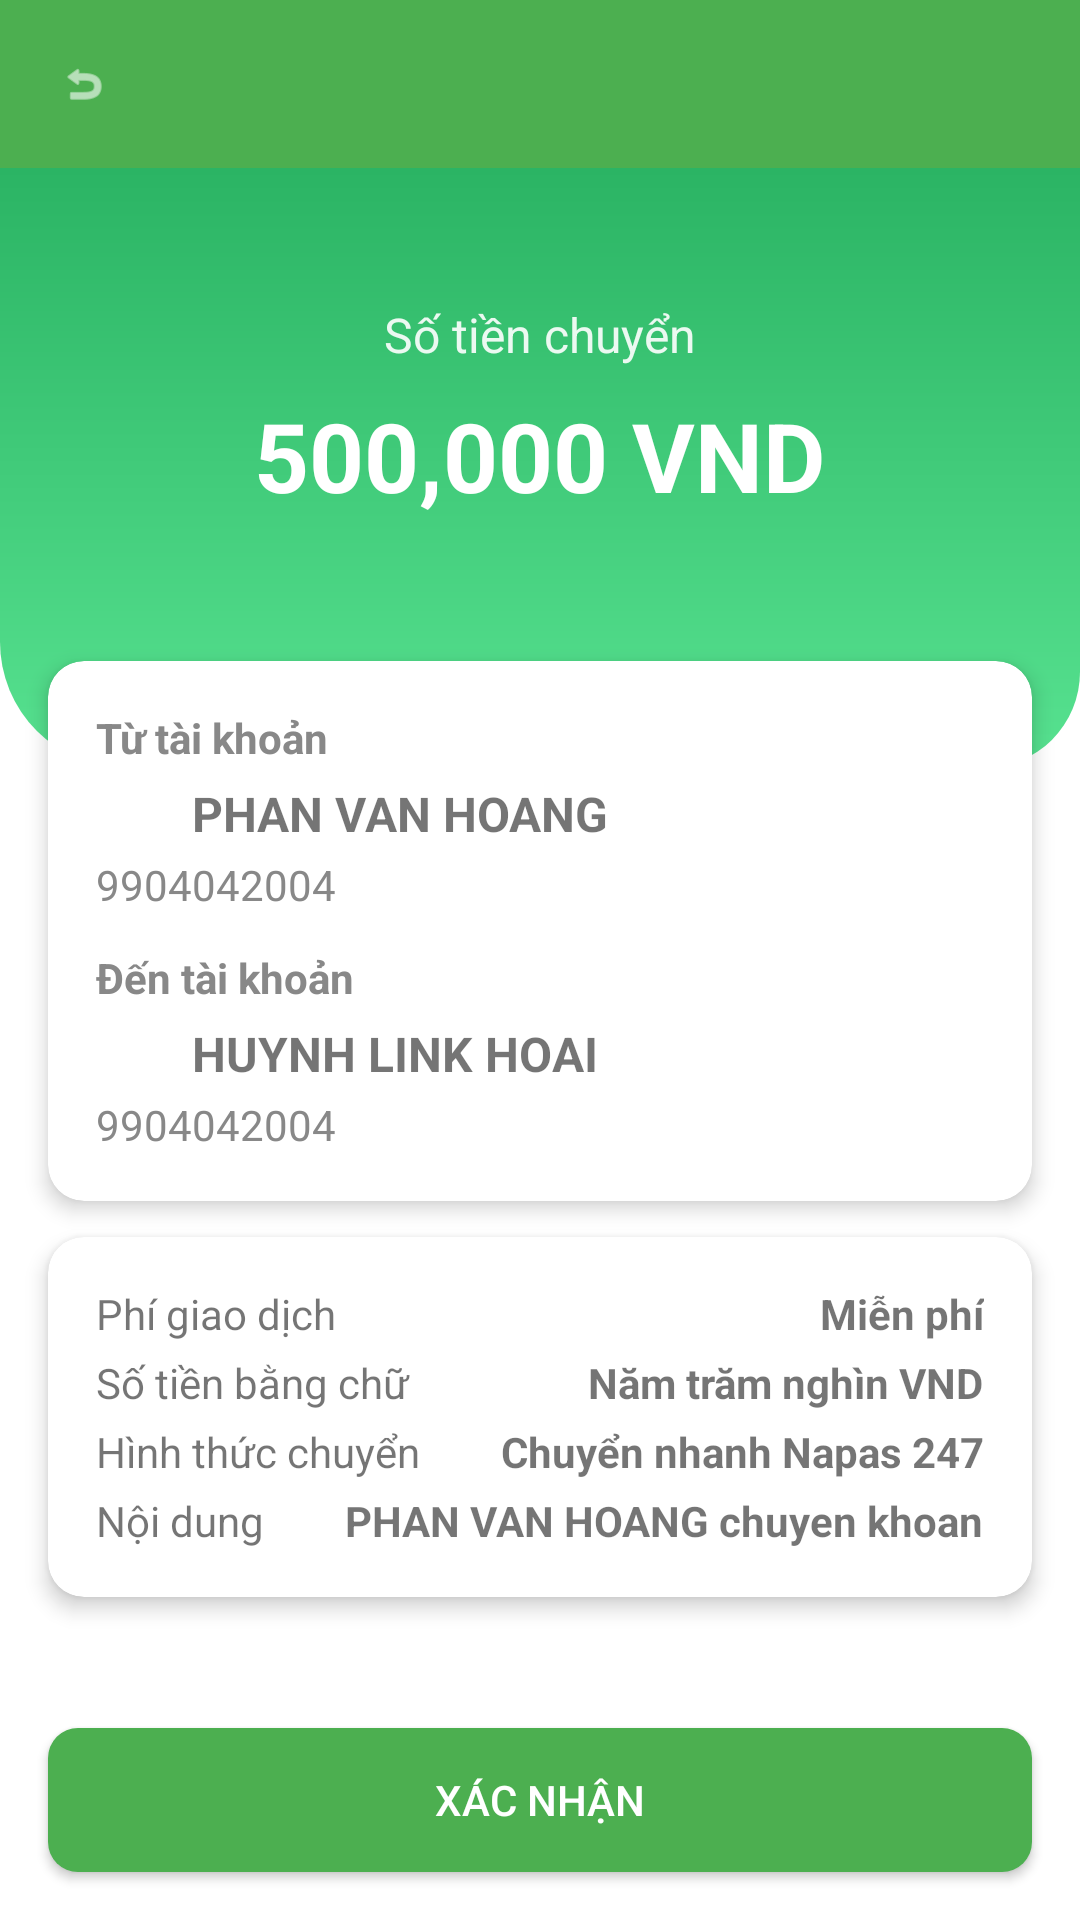

Icons on this 1080px×1920px Android screen, each with its box as (x1=x1, y1=y1, x2=x2, y2=y2):
Back: (x1=67, y1=69, x2=102, y2=100)
